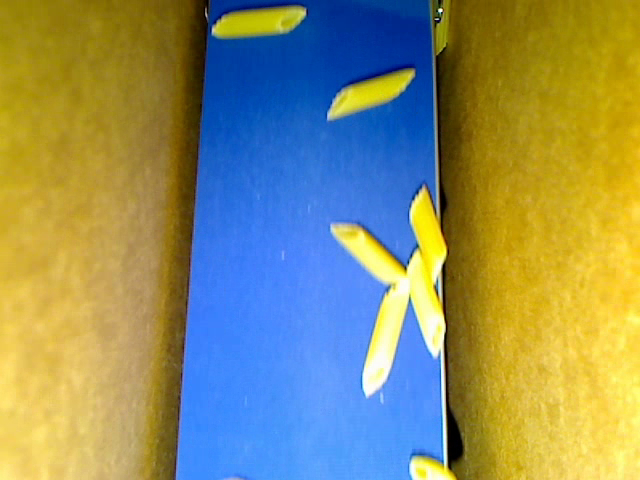elbow: (407, 453, 459, 479)
penne: (400, 246, 448, 362), (326, 219, 407, 284), (321, 66, 417, 119), (364, 284, 407, 401), (407, 176, 448, 281), (212, 7, 305, 38)
